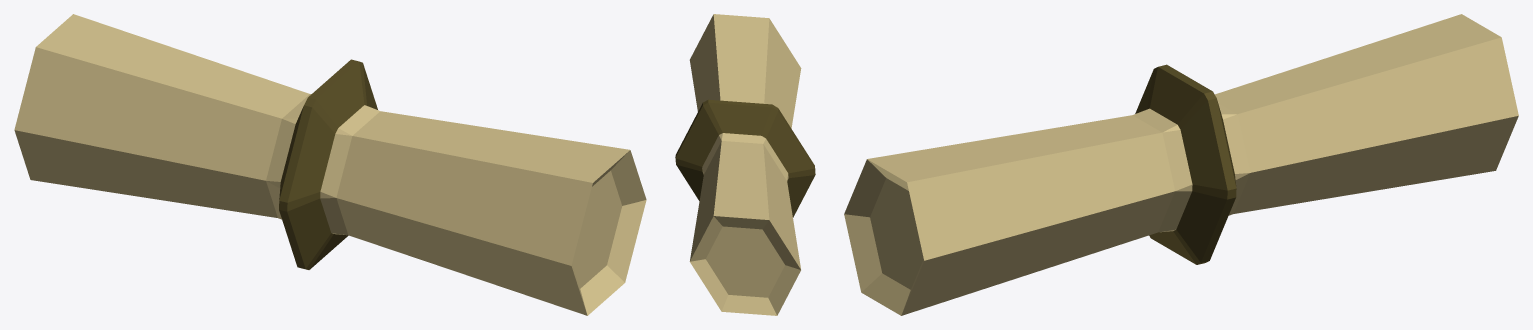
File: shoji2.2.fbx
The picture shows the model from 3 angles, left to right: view 1: azimuth 30°, elevation 25°; view 2: azimuth 150°, elevation 25°; view 3: azimuth 270°, elevation 25°; orthographic projection. The views are drawn at different scales.
Parts seen in each view (by area): view 1: Cylinder; view 2: Cylinder; view 3: Cylinder.
Boxes of the visible parts, bbox=[...] form: Cylinder: bbox=[14, 14, 646, 315]; Cylinder: bbox=[675, 14, 815, 315]; Cylinder: bbox=[844, 14, 1518, 315].
Size of the model in its own units: 30.89 by 13 by 43.24.
